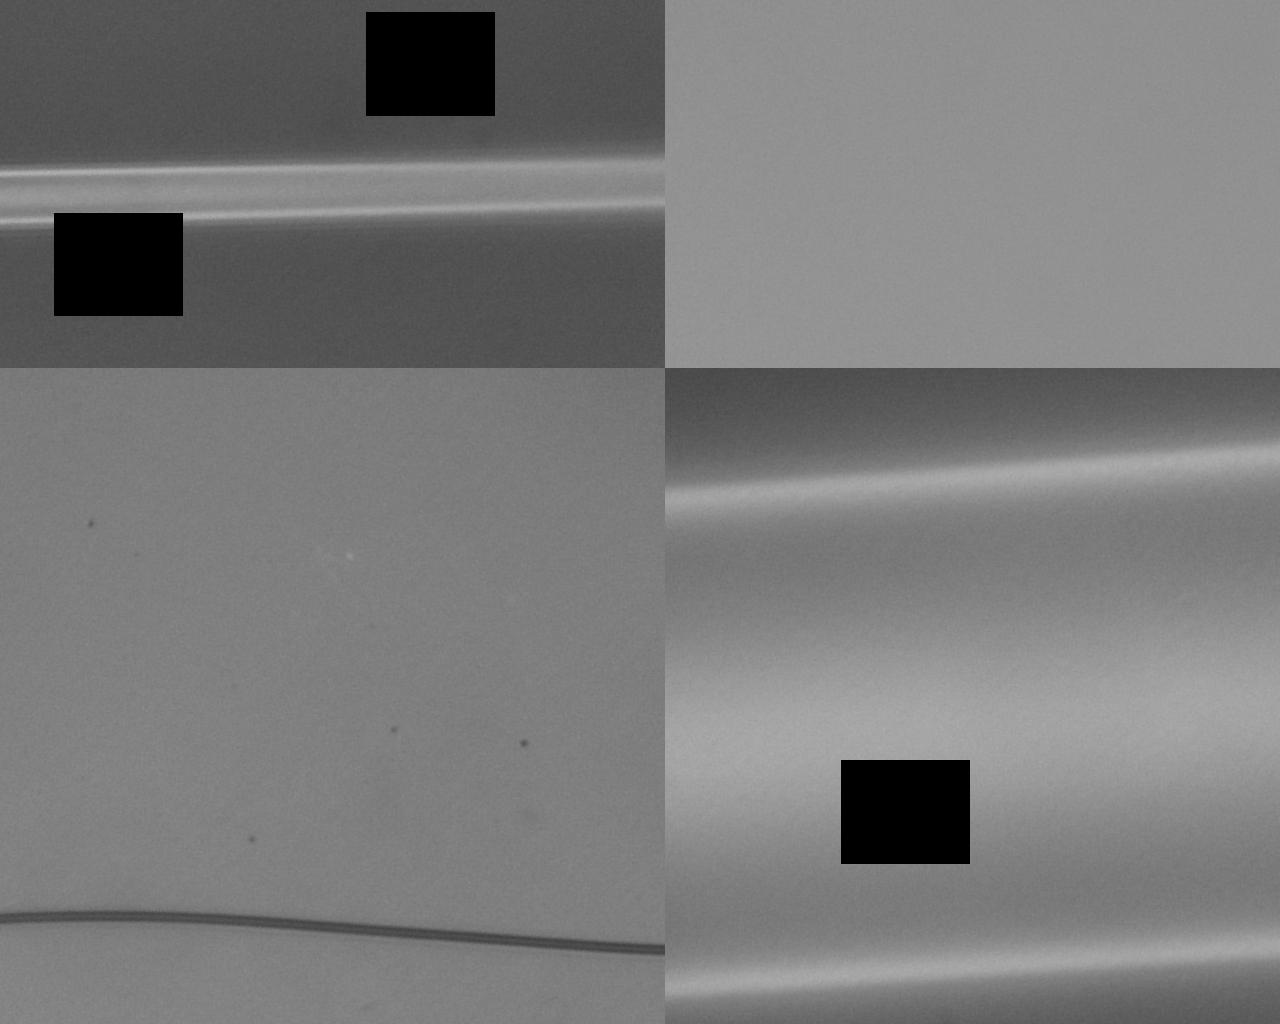fiber: (0, 257, 1280, 898)
